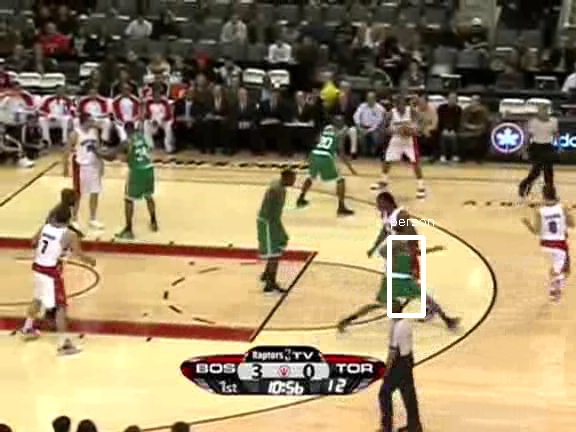person: (384, 235, 418, 316), (383, 235, 417, 316), (385, 235, 419, 316), (384, 234, 418, 315), (384, 236, 418, 317)
target_negative: (13, 112, 533, 231), (16, 223, 207, 408), (334, 136, 477, 322), (178, 16, 239, 289), (52, 43, 124, 185), (416, 316, 451, 359)
